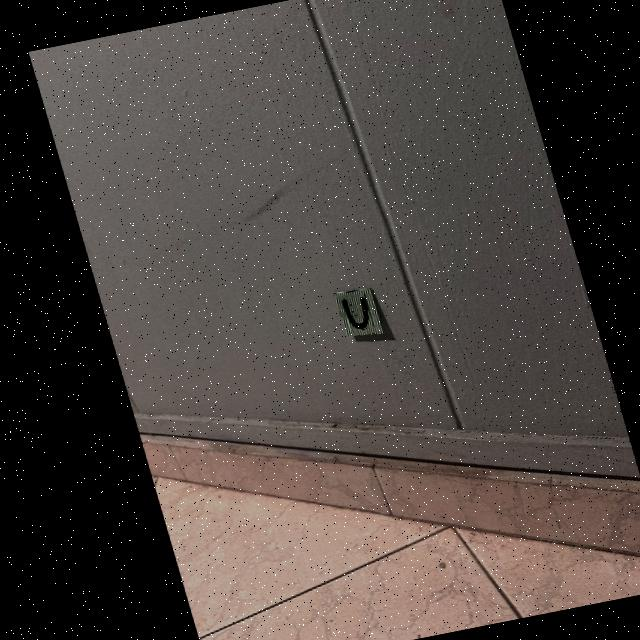U: (337, 297, 364, 329)
